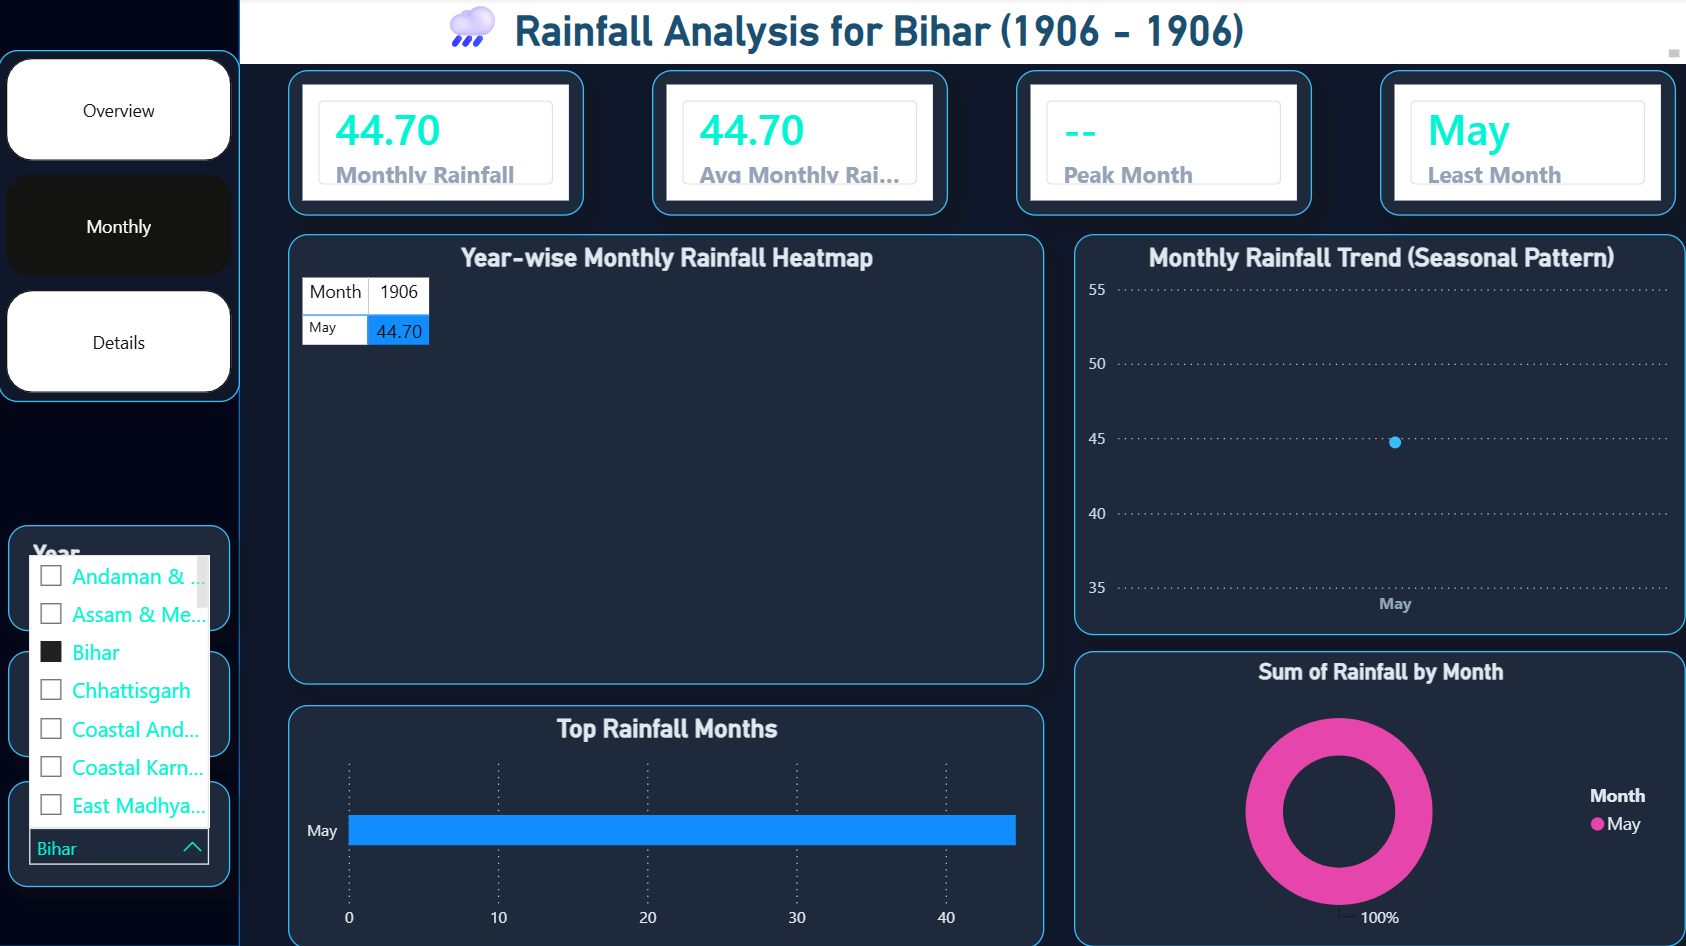

What the dashboard file says about the page in this screenshot:
{"tool":"powerbi","page":{"name":"Monthly ","canvas":[1280,720],"ordinal":1},"visuals":[{"type":"textbox","box":[0,0,1280,51.6],"z":0},{"type":"lineChart","title":"Monthly Rainfall Trend (Seasonal Pattern)","fields":{"Category":["Month Table.Month"],"Y":["Sub_Division_IMD_2017.Monthly Rainfall"]},"box":[815.9,180.5,464.1,303.3],"z":1000},{"type":"clusteredBarChart","title":"Top Rainfall Months","fields":{"Category":["Month Table.Month"],"Y":["Sub_Division_IMD_2017.Monthly Rainfall"]},"box":[219.9,536.9,573.3,185],"z":2000},{"type":"pivotTable","title":"Year-wise Monthly Rainfall Heatmap","fields":{"Columns":["Sub_Division_IMD_2017.Year"],"Rows":["Month Table.Month"],"Values":["Sub_Division_IMD_2017.Monthly Rainfall"]},"box":[219.9,180.5,573.3,341.2],"z":3000},{"type":"donutChart","fields":{"Category":["Month Table.Month"],"Y":["Sum(Sub_Division_IMD_2017.Rainfall)"]},"box":[815.9,495.9,464.1,224.5],"z":4000},{"type":"group","id":"g1","title":"Group 1","box":[0,0,183.5,720.4],"z":5000},{"type":"cardVisual","fields":{"Data":["Sub_Division_IMD_2017.Monthly Rainfall"]},"box":[219.9,56.1,224.5,110.7],"z":6000},{"type":"cardVisual","fields":{"Data":["Sub_Division_IMD_2017.Avg Monthly Rainfall"]},"box":[495.9,56.1,224.5,110.7],"z":7000},{"type":"shape","box":[0,0,183.5,720.4],"z":8000,"group":"g1"},{"type":"cardVisual","fields":{"Data":["Sub_Division_IMD_2017.Peak Name"]},"box":[771.9,56.1,224.5,110.7],"z":8000},{"type":"cardVisual","fields":{"Data":["Month Table.Least Month"]},"box":[1048,56.1,224.5,110.7],"z":9000},{"type":"slicer","fields":{"Values":["Sub_Division_IMD_2017.Year"]},"box":[7.6,400.4,168.3,80.4],"z":9000,"group":"g1"},{"type":"slicer","fields":{"Values":["Sub_Division_IMD_2017.SUBDIVISION"]},"box":[7.6,594.5,168.3,80.4],"z":10000,"group":"g1"},{"type":"bookmarkNavigator","box":[0,40.9,183.5,266.9],"z":11000,"group":"g1"},{"type":"slicer","fields":{"Values":["Month Table.Month"]},"box":[7.6,495.9,168.3,80.4],"z":12001,"group":"g1"}]}

Visuals, with their boxes on the page's 1280x720 design canvas (x1, y1, x2, y2). These are canvas units, not pixel positions in the 1686x946 screenshot, which may show the page scaled, cropped or inside an application window:
textbox: <region>0, 0, 1280, 52</region>
"Monthly Rainfall Trend (Seasonal Pattern)" lineChart: <region>816, 180, 1280, 484</region>
"Top Rainfall Months" clusteredBarChart: <region>220, 537, 793, 722</region>
"Year-wise Monthly Rainfall Heatmap" pivotTable: <region>220, 180, 793, 522</region>
donutChart - Month Table.Month x Sum(Sub_Division_IMD_2017.Rainfall): <region>816, 496, 1280, 720</region>
"Group 1" group: <region>0, 0, 184, 720</region>
cardVisual - Sub_Division_IMD_2017.Monthly Rainfall: <region>220, 56, 444, 167</region>
cardVisual - Sub_Division_IMD_2017.Avg Monthly Rainfall: <region>496, 56, 720, 167</region>
shape: <region>0, 0, 184, 720</region>
cardVisual - Sub_Division_IMD_2017.Peak Name: <region>772, 56, 996, 167</region>
cardVisual - Month Table.Least Month: <region>1048, 56, 1272, 167</region>
slicer - Sub_Division_IMD_2017.Year: <region>8, 400, 176, 481</region>
slicer - Sub_Division_IMD_2017.SUBDIVISION: <region>8, 594, 176, 675</region>
bookmarkNavigator: <region>0, 41, 184, 308</region>
slicer - Month Table.Month: <region>8, 496, 176, 576</region>
